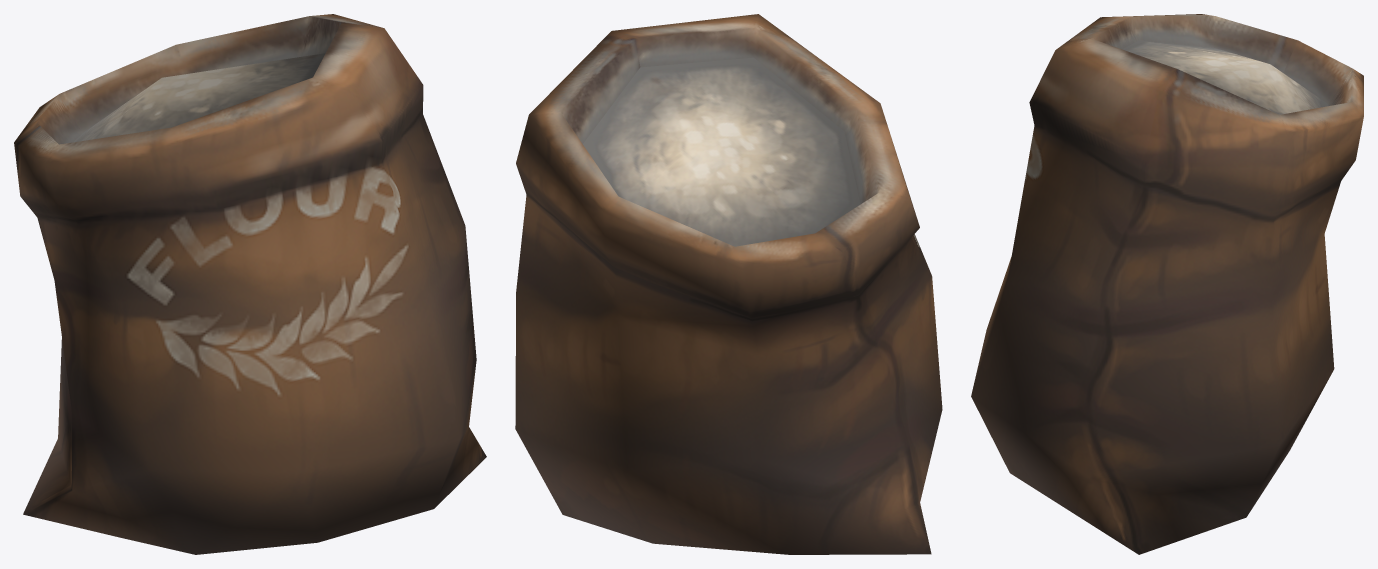
The model's file is sack_of_flour_large3.fbx.
3 renders of one model, left to right at view 1: azimuth 30°, elevation 25°; view 2: azimuth 150°, elevation 25°; view 3: azimuth 270°, elevation 25°, orthographic. The views are drawn at different scales.
Visible parts, largest first — view 1: sack_of_flour_large3; view 2: sack_of_flour_large3; view 3: sack_of_flour_large3.
Part boxes in pixels (x1,y1,x2,y2): sack_of_flour_large3: [14, 14, 486, 554]; sack_of_flour_large3: [515, 14, 942, 554]; sack_of_flour_large3: [971, 14, 1363, 554].
Size of the model in its own units: 94.01 by 94.69 by 78.04.
